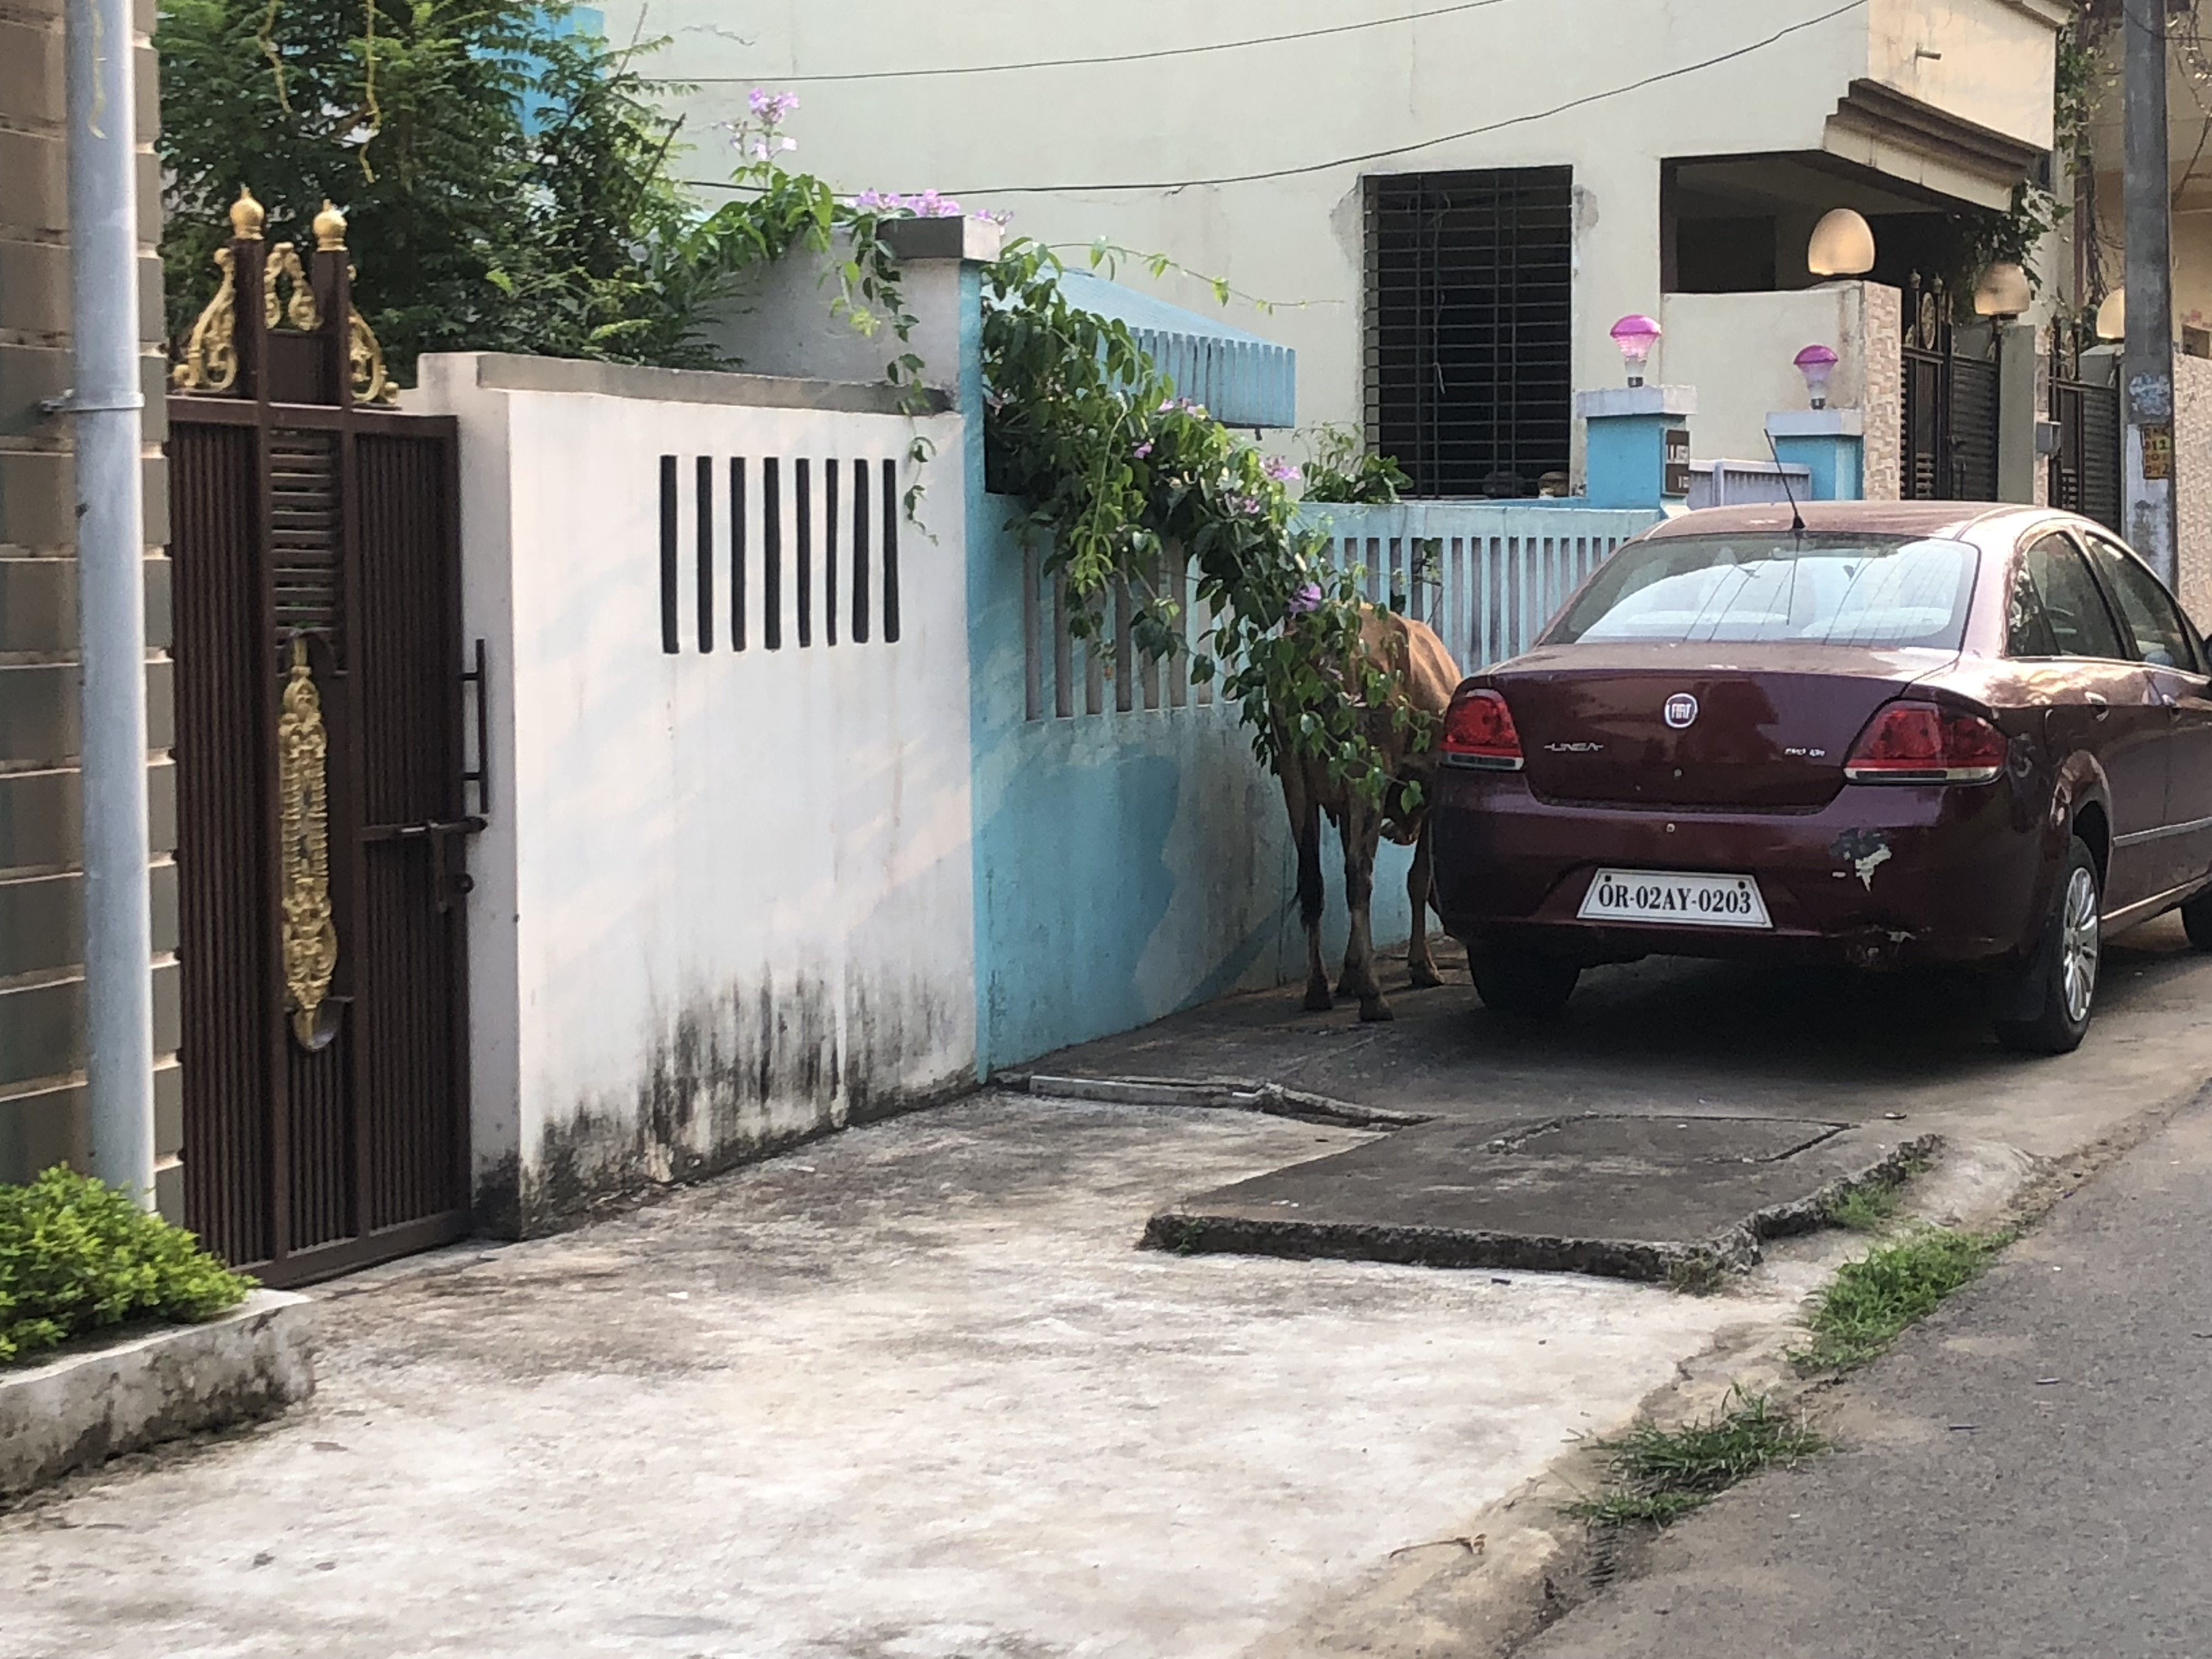licenseplate: (1565, 863, 1780, 933)
